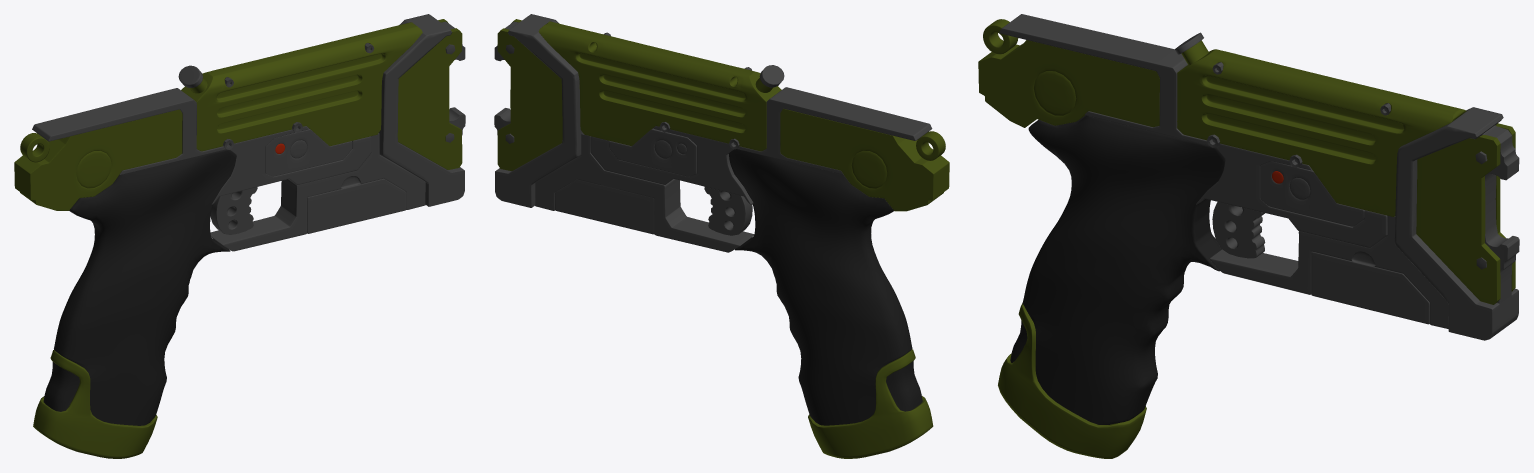
File: teaser5.fbx
3 renders of one model, left to right at view 1: azimuth 30°, elevation 25°; view 2: azimuth 150°, elevation 25°; view 3: azimuth 330°, elevation 25°, orthographic. The views are drawn at different scales.
Visible parts, largest first — view 1: Mango, ArribaAmarillo2, AmarilloAtras, AmarilloFrente, RelieveNegroYRellenoFrente, NegroAbajoGatillo, AdornoAmarillo, NegroAtras, NegroArribaGatillo, Negro93, NegroCirculitos, Gatillo1 (+1 smaller); view 2: Mango, ArribaAmarillo2, AmarilloAtras, AmarilloFrente1, RelieveNegroYRellenoFrente, NegroAbajoGatillo, AdornoAmarillo, NegroAtras, NegroArribaGatillo, Negro93, NegroCirculitos, Gatillo1 (+1 smaller); view 3: Mango, ArribaAmarillo2, AmarilloAtras, RelieveNegroYRellenoFrente, AmarilloFrente, AdornoAmarillo, NegroAbajoGatillo, NegroAtras, NegroArribaGatillo, Negro93, NegroCirculitos, Gatillo1 (+2 smaller).
Part boxes in pixels (box(x1,y1,x2,y2)): Mango: box(43, 149, 236, 425); ArribaAmarillo2: box(181, 22, 422, 151); AmarilloAtras: box(14, 109, 182, 210); AmarilloFrente: box(397, 28, 462, 169); RelieveNegroYRellenoFrente: box(379, 14, 465, 206); NegroAbajoGatillo: box(210, 133, 425, 251); AdornoAmarillo: box(33, 350, 157, 458); NegroAtras: box(32, 88, 225, 174); NegroArribaGatillo: box(212, 126, 371, 204); Negro93: box(307, 178, 406, 233); NegroCirculitos: box(265, 129, 352, 176); Gatillo1: box(210, 187, 257, 234); Mango: box(728, 149, 922, 425); ArribaAmarillo2: box(538, 21, 781, 151); AmarilloAtras: box(780, 108, 949, 211); AmarilloFrente1: box(497, 28, 562, 170); RelieveNegroYRellenoFrente: box(494, 14, 582, 207); NegroAbajoGatillo: box(535, 133, 754, 252); AdornoAmarillo: box(808, 349, 933, 458); NegroAtras: box(737, 87, 932, 174); NegroArribaGatillo: box(590, 126, 753, 204); Negro93: box(555, 179, 654, 234); NegroCirculitos: box(609, 128, 696, 176); Gatillo1: box(704, 187, 752, 235); Mango: box(1010, 115, 1225, 424); ArribaAmarillo2: box(1177, 40, 1466, 216); AmarilloAtras: box(978, 40, 1159, 127); RelieveNegroYRellenoFrente: box(1394, 107, 1519, 340); AmarilloFrente: box(1416, 135, 1500, 304); AdornoAmarillo: box(998, 303, 1146, 458); NegroAbajoGatillo: box(1209, 215, 1448, 328); NegroAtras: box(999, 14, 1208, 145); NegroArribaGatillo: box(1196, 143, 1387, 247); Negro93: box(1311, 251, 1429, 324); NegroCirculitos: box(1260, 161, 1364, 226); Gatillo1: box(1212, 202, 1265, 258).
Size of the model in its own units: 6.42 by 5.07 by 0.8575.
